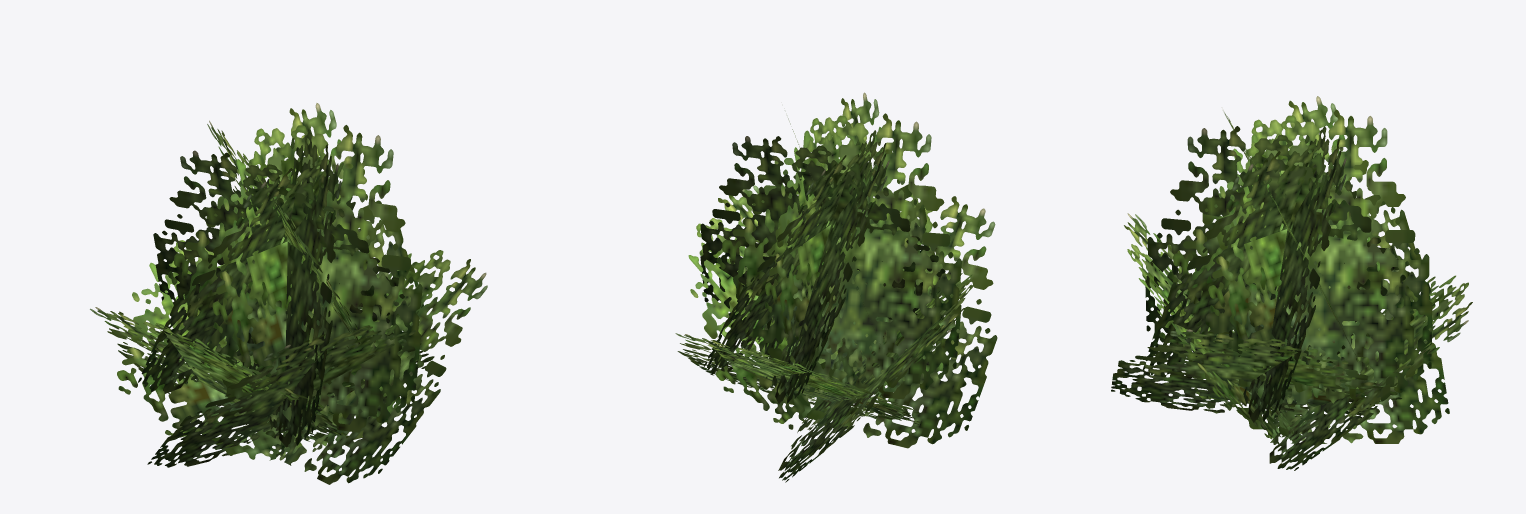
File: bush_tempe_la_lush_0.glb
3 views of the same model, side by side, from view 1: azimuth 30°, elevation 25°; view 2: azimuth 150°, elevation 25°; view 3: azimuth 270°, elevation 25° (orthographic). The views are drawn at different scales.
Visible parts, largest first — view 1: bush_tempe_la_lush_0; view 2: bush_tempe_la_lush_0; view 3: bush_tempe_la_lush_0.
Boxes of the visible parts, x1,y1,x2,y2 form: bush_tempe_la_lush_0: (90,103,487,484); bush_tempe_la_lush_0: (675,92,997,482); bush_tempe_la_lush_0: (1111,96,1472,470).
Bounding box in the file's own units: 3.15 × 3 × 2.99.
1 material, 1 textured.
